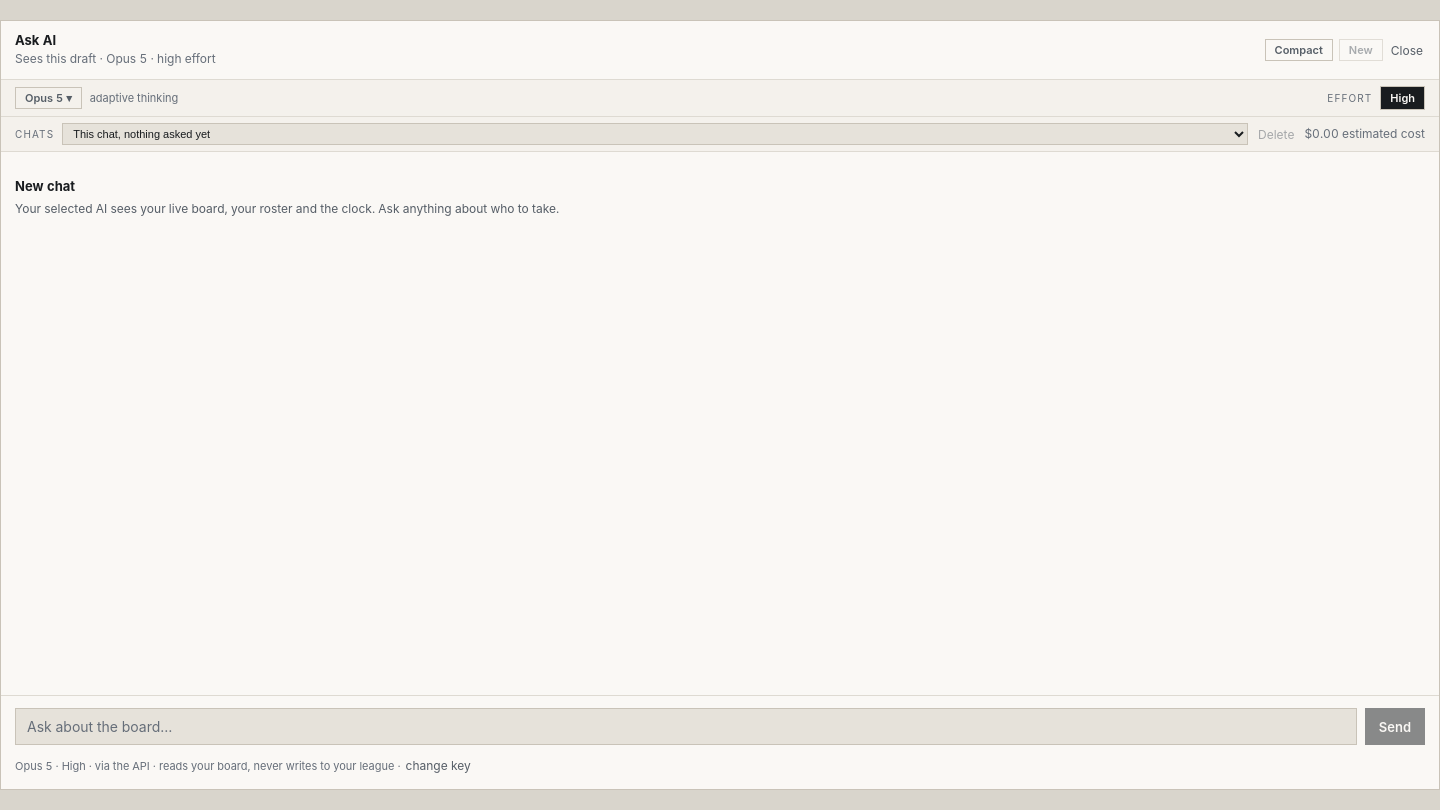
picking the shared thread › is pinned in the picker and opens on the host's thread
Select "Shared with devices" in the dropdown named "Saved chats" at coordinates (655, 134), box [62,123,1248,145]
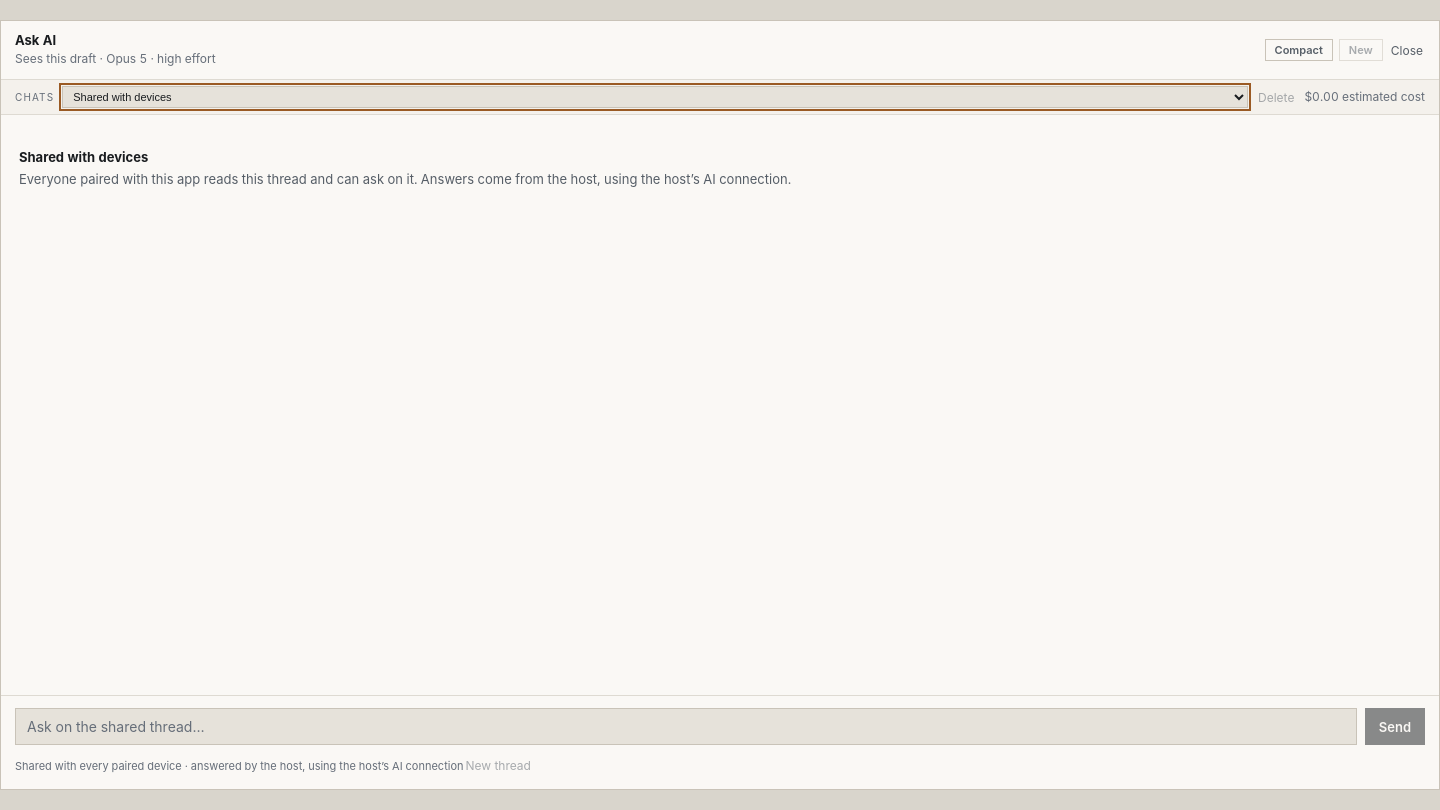
Check: the text "Everyone paired with this app reads this thread" is shown, box [19,171,791,187]
